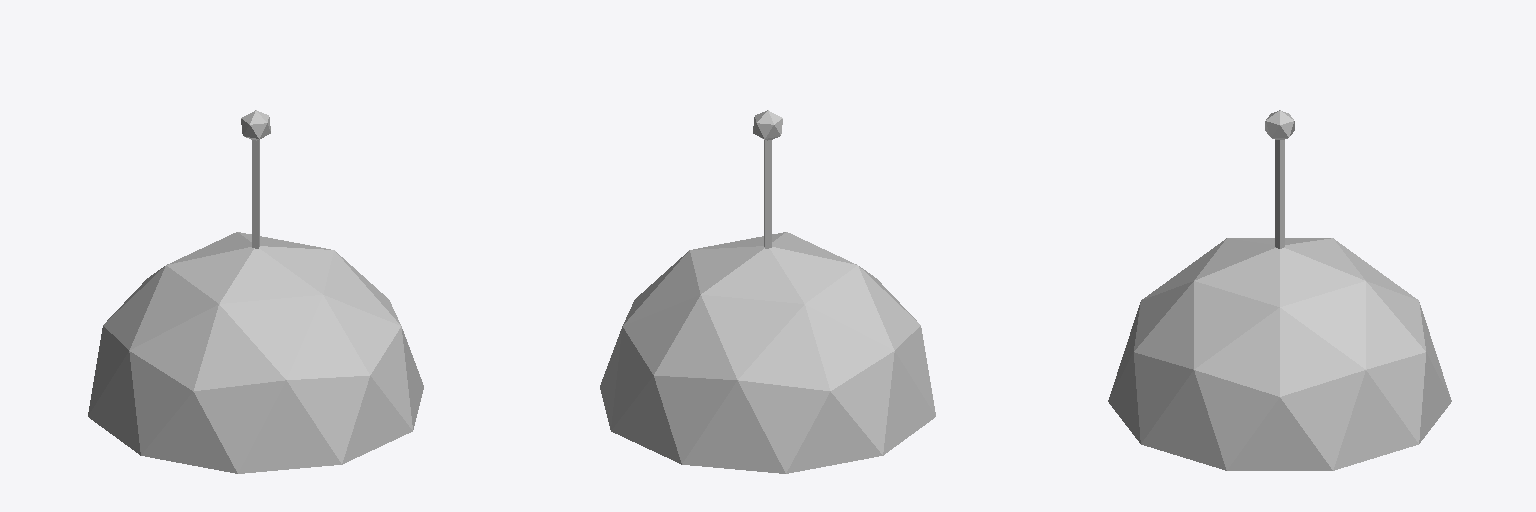
The model's file is ovni_cima.obj.
3 renders of one model, left to right at view 1: azimuth 30°, elevation 25°; view 2: azimuth 150°, elevation 25°; view 3: azimuth 270°, elevation 25°, orthographic.
Visible parts, largest first — view 1: Cylinder; view 2: Cylinder; view 3: Cylinder.
Boxes of the visible parts, box(x1,y1,x2,y2) form: Cylinder: box(88, 110, 423, 473); Cylinder: box(600, 110, 935, 473); Cylinder: box(1108, 110, 1451, 470).
Bounding box in the file's own units: 1.9 × 1.87 × 2.